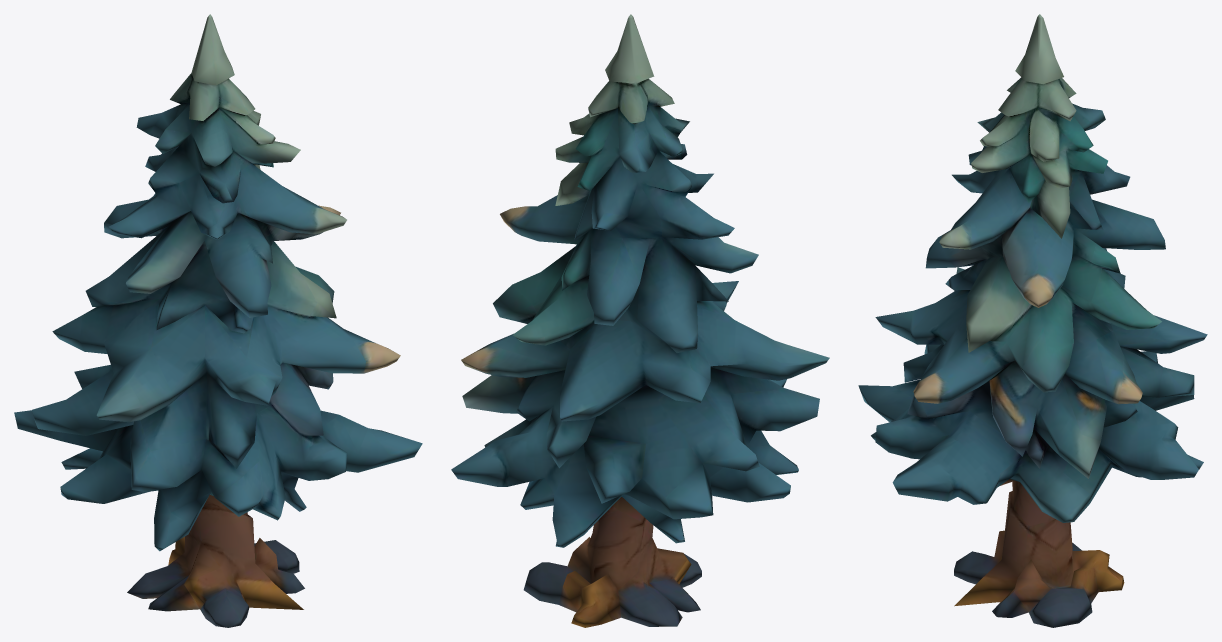
File: tree-pine.glb
3 renders of one model, left to right at view 1: azimuth 30°, elevation 25°; view 2: azimuth 150°, elevation 25°; view 3: azimuth 270°, elevation 25°, orthographic. The views are drawn at different scales.
Visible parts, largest first — view 1: tripo_node_06f1d68f-5592-4a59-bb2e-b853bb8b03a5; view 2: tripo_node_06f1d68f-5592-4a59-bb2e-b853bb8b03a5; view 3: tripo_node_06f1d68f-5592-4a59-bb2e-b853bb8b03a5.
Part boxes in pixels (bbox=[...]): tripo_node_06f1d68f-5592-4a59-bb2e-b853bb8b03a5: bbox=[14, 14, 422, 627]; tripo_node_06f1d68f-5592-4a59-bb2e-b853bb8b03a5: bbox=[451, 14, 829, 627]; tripo_node_06f1d68f-5592-4a59-bb2e-b853bb8b03a5: bbox=[858, 14, 1207, 627].
Bounding box in the file's own units: 0.5371 × 0.998 × 0.5566.
Materials: 1 (1 with a texture image).
